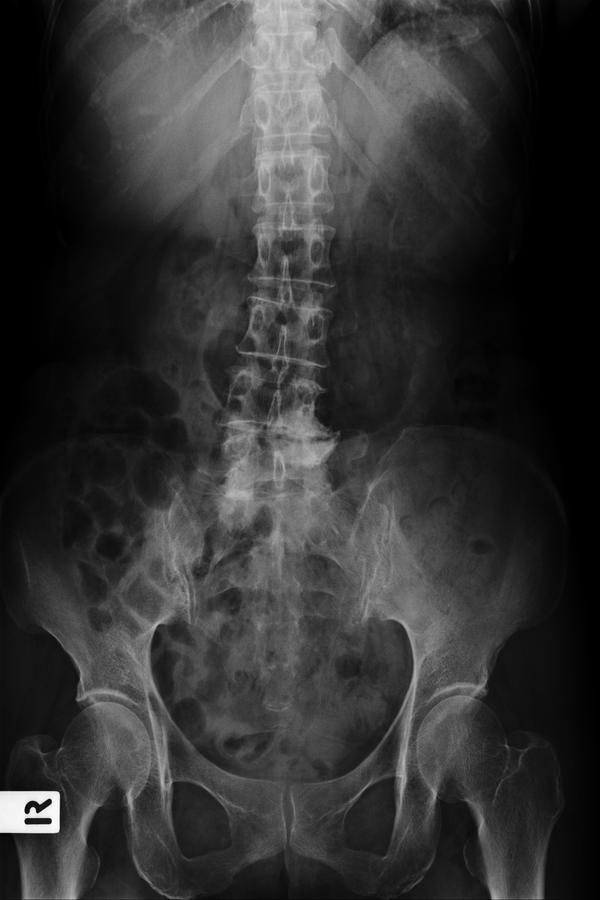lumbar scoliosis: (220, 6, 341, 541)
